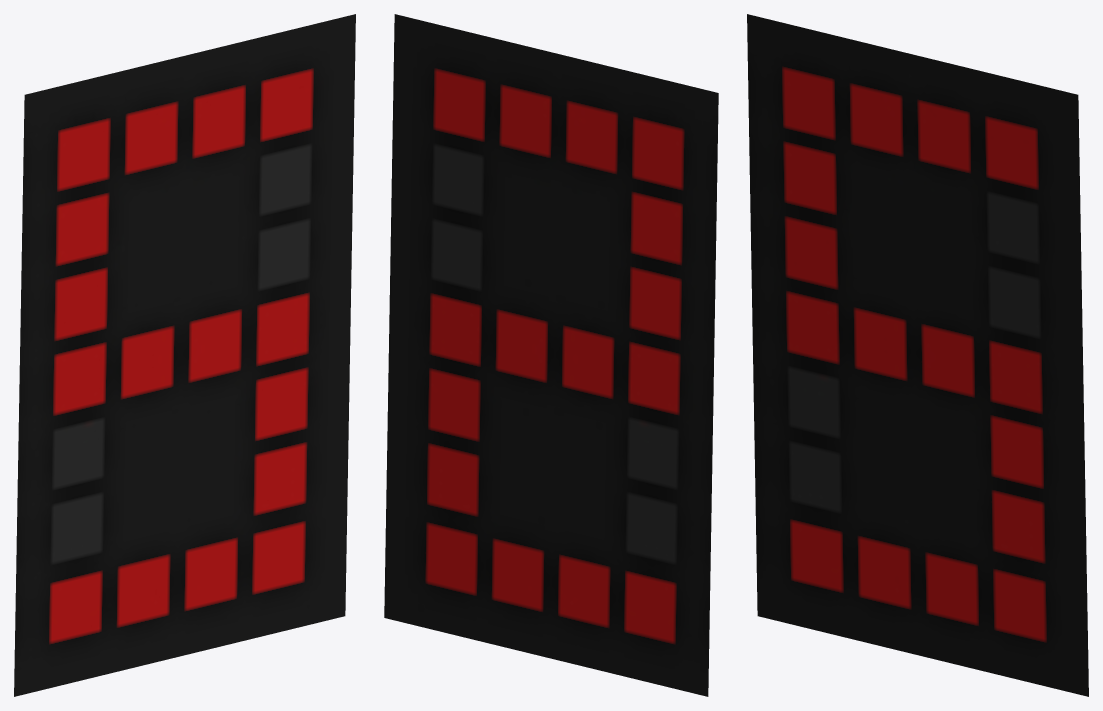
The picture shows the model from 3 angles, left to right: view 1: azimuth 30°, elevation 25°; view 2: azimuth 150°, elevation 25°; view 3: azimuth 330°, elevation 25°; orthographic projection. The views are drawn at different scales.
Parts seen in each view (by area): view 1: scorebord.001; view 2: scorebord.001; view 3: scorebord.001.
Boxes of the visible parts, bbox=[...] form: scorebord.001: bbox=[14, 14, 355, 696]; scorebord.001: bbox=[384, 14, 718, 696]; scorebord.001: bbox=[747, 14, 1088, 696].
Bounding box in the file's own units: 0.00402 × 0.00706 × 0.000222.
Materials: 1 (1 with a texture image).
